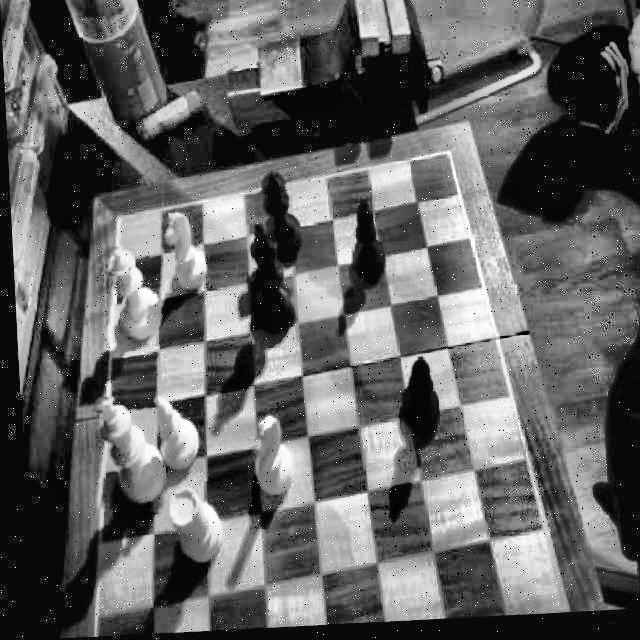black-bishop: (394, 358, 437, 447), (346, 202, 386, 289)
black-king: (242, 227, 299, 345)
black-queen: (254, 173, 302, 268)
white-bishop: (146, 396, 202, 476)
white-king: (86, 397, 167, 516)
white-knight: (245, 414, 295, 504), (160, 211, 206, 297)
white-queen: (100, 248, 162, 348)
white-rook: (160, 484, 221, 574)
